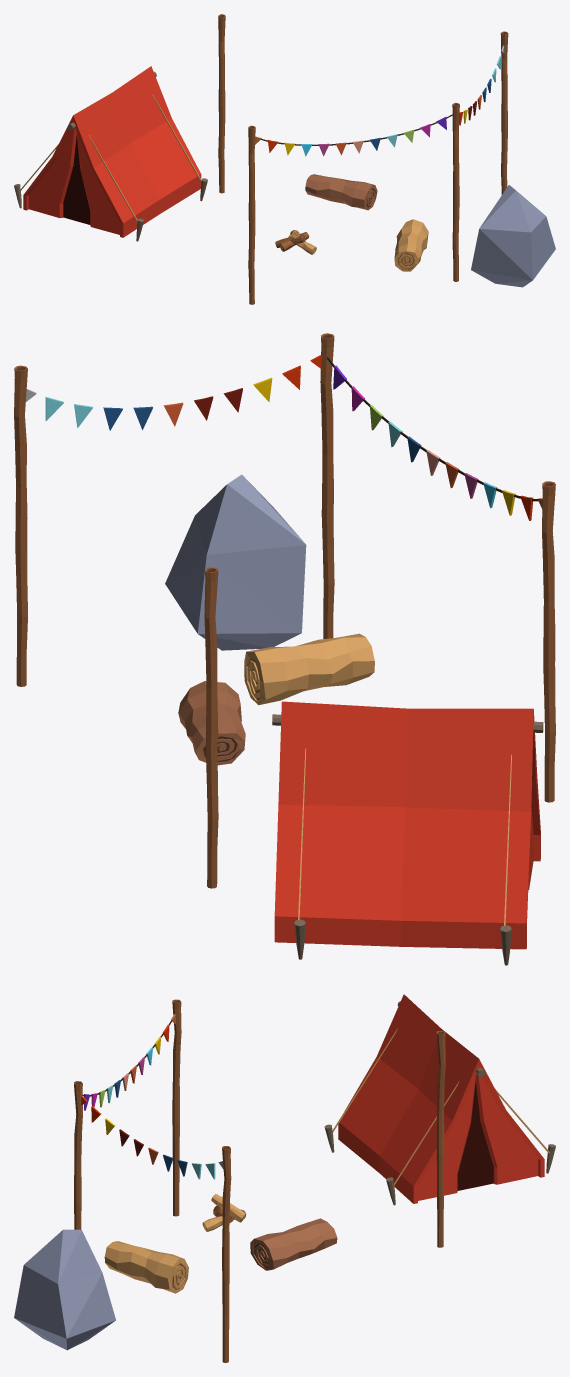
Rendered from campsite.glb.
3 views of the same model, one above another, from view 1: azimuth 30°, elevation 25°; view 2: azimuth 150°, elevation 25°; view 3: azimuth 270°, elevation 25° (orthographic). The views are drawn at different scales.
Visible parts, largest first — view 1: Tent, StoneBridge.004, Log.006, Log.003, Pole.004, Pole, Pole.002, FlagLine, Pole.003, FireLogs, Flag; view 2: Tent, StoneBridge.004, Log.003, Pole, Pole.004, Pole.003, Pole.002, Log.006, FlagLine, Flag; view 3: Tent, StoneBridge.004, Log.003, Log.006, Pole.003, Pole.004, Pole, Pole.002, Flag, FlagLine, FireLogs.
Part boxes in pixels (<box>): Tent: <box>14,66,207,241</box>; StoneBridge.004: <box>471,185,555,287</box>; Log.006: <box>305,174,377,210</box>; Log.003: <box>394,219,428,271</box>; Pole.004: <box>218,14,225,193</box>; Pole: <box>248,125,255,304</box>; Pole.002: <box>452,102,459,281</box>; FlagLine: <box>254,114,452,156</box>; Pole.003: <box>500,31,508,194</box>; FireLogs: <box>275,230,316,254</box>; Flag: <box>459,45,504,125</box>; Tent: <box>272,701,543,965</box>; StoneBridge.004: <box>165,474,306,650</box>; Log.003: <box>244,633,374,705</box>; Pole: <box>542,481,555,802</box>; Pole.004: <box>204,567,218,888</box>; Pole.003: <box>14,365,27,686</box>; Pole.002: <box>320,333,334,638</box>; Log.006: <box>178,681,245,765</box>; FlagLine: <box>327,357,542,520</box>; Flag: <box>26,355,321,430</box>; Tent: <box>324,994,555,1205</box>; StoneBridge.004: <box>14,1229,115,1350</box>; Log.003: <box>104,1241,188,1293</box>; Log.006: <box>250,1218,337,1270</box>; Pole.003: <box>222,1146,231,1362</box>; Pole.004: <box>436,1031,445,1247</box>; Pole: <box>172,999,181,1216</box>; Pole.002: <box>74,1081,82,1229</box>; Flag: <box>81,1096,223,1179</box>; FlagLine: <box>82,1014,175,1110</box>; FireLogs: <box>202,1193,246,1231</box>.
Size of the model in its own units: 7.1 by 3.34 by 7.15.
1 material, 1 textured.
